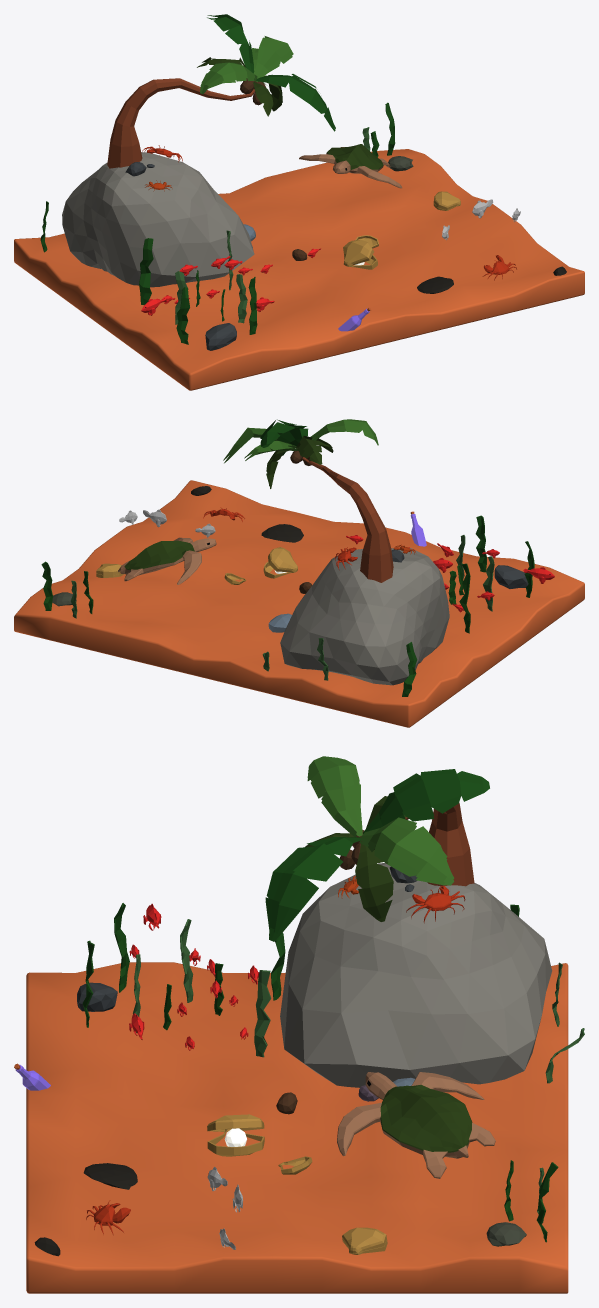
3 views of the same model, one above another, from view 1: azimuth 30°, elevation 25°; view 2: azimuth 150°, elevation 25°; view 3: azimuth 270°, elevation 25° (orthographic). The views are drawn at different scales.
Visible parts, largest first — view 1: OceanFloor, Island, palmLeaves, Kelp, Cylinder, Rocks, Turtle, Clam, Fish1, Crab; view 2: OceanFloor, Island, palmLeaves, Kelp, Cylinder, Turtle, Rocks, Clam, Fish1, Crab, Fish2; view 3: OceanFloor, Island, palmLeaves, Turtle, Kelp, Rocks, Clam, Cylinder, Crab, Fish1.
Boxes of the visible parts, left/top/right/bottom form: OceanFloor: left=14, top=149, right=584, bottom=390; Island: left=62, top=152, right=254, bottom=287; palmLeaves: left=197, top=14, right=335, bottom=260; Kelp: left=40, top=102, right=395, bottom=344; Cylinder: left=107, top=78, right=255, bottom=168; Rocks: left=125, top=156, right=566, bottom=350; Turtle: left=299, top=144, right=402, bottom=188; Clam: left=343, top=191, right=460, bottom=269; Fish1: left=141, top=248, right=320, bottom=315; Crab: left=142, top=145, right=516, bottom=280; OceanFloor: left=14, top=480, right=584, bottom=727; Island: left=280, top=548, right=449, bottom=685; palmLeaves: left=223, top=419, right=378, bottom=593; Kelp: left=41, top=515, right=534, bottom=696; Cylinder: left=302, top=457, right=393, bottom=582; Turtle: left=118, top=537, right=216, bottom=584; Rocks: left=52, top=486, right=528, bottom=632; Clam: left=96, top=547, right=297, bottom=584; Fish1: left=346, top=535, right=554, bottom=612; Crab: left=203, top=507, right=416, bottom=570; Fish2: left=119, top=509, right=215, bottom=537; OceanFloor: left=26, top=962, right=568, bottom=1293; Island: left=280, top=863, right=552, bottom=1087; palmLeaves: left=265, top=756, right=489, bottom=1114; Turtle: left=337, top=1072, right=495, bottom=1178; Kelp: left=82, top=903, right=584, bottom=1242; Rocks: left=34, top=866, right=526, bottom=1256; Clam: left=207, top=1114, right=387, bottom=1254; Cylinder: left=405, top=802, right=474, bottom=886; Crab: left=86, top=876, right=465, bottom=1235; Fish1: left=129, top=903, right=259, bottom=1050.
Size of what is drawn, in the model's own units: 1981 by 1076 by 1565.
